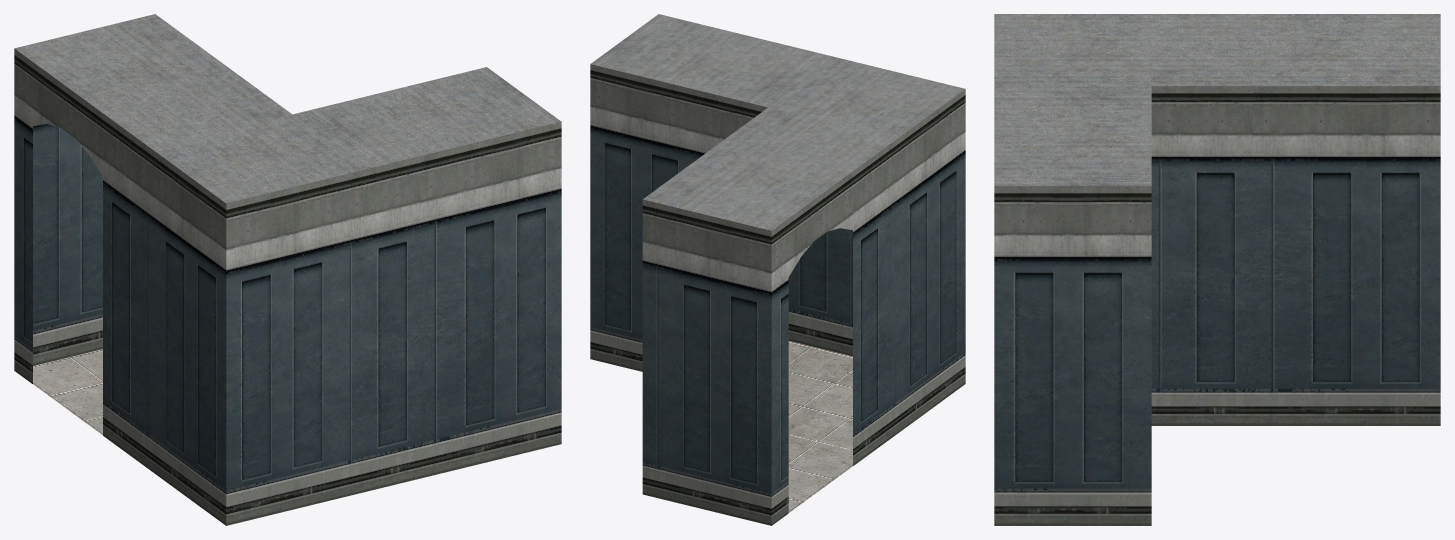
The model's file is thm_corl_imprv_historic_24x16_s02_r2_mesh.fbx.
3 renders of one model, left to right at view 1: azimuth 30°, elevation 25°; view 2: azimuth 150°, elevation 25°; view 3: azimuth 270°, elevation 25°, orthographic. The views are drawn at different scales.
Visible parts, largest first — view 1: mesh_node; view 2: mesh_node; view 3: mesh_node.
Boxes of the visible parts, <box> form: mesh_node: <box>14,14,561,525</box>; mesh_node: <box>590,14,965,525</box>; mesh_node: <box>994,14,1440,525</box>.
Bounding box in the file's own units: 4.14 × 3.8 × 4.53.
